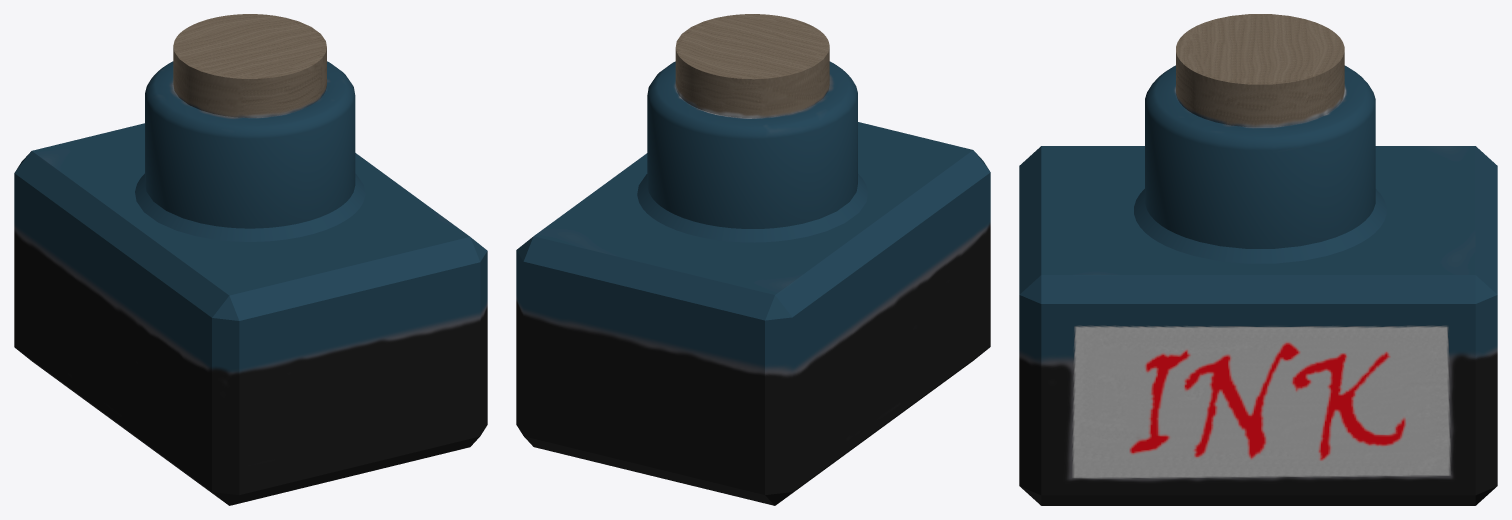
File: inkBottle.fbx
3 views of the same model, side by side, from view 1: azimuth 30°, elevation 25°; view 2: azimuth 150°, elevation 25°; view 3: azimuth 270°, elevation 25° (orthographic). The views are drawn at different scales.
Visible parts, largest first — view 1: Box001; view 2: Box001; view 3: Box001.
Part boxes in pixels (x1=…): Box001: x1=14, y1=14, x2=487, y2=505; Box001: x1=516, y1=14, x2=990, y2=505; Box001: x1=1019, y1=14, x2=1497, y2=505.
Size of the model in its own units: 51.71 by 64.05 by 70.79.
Materials: 1 (1 with a texture image).
